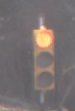Red: (30, 26, 58, 96)
